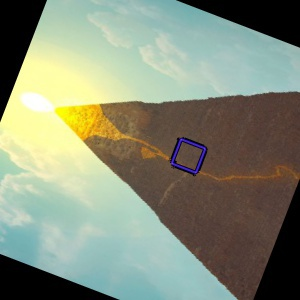square: (169, 135, 208, 176)
